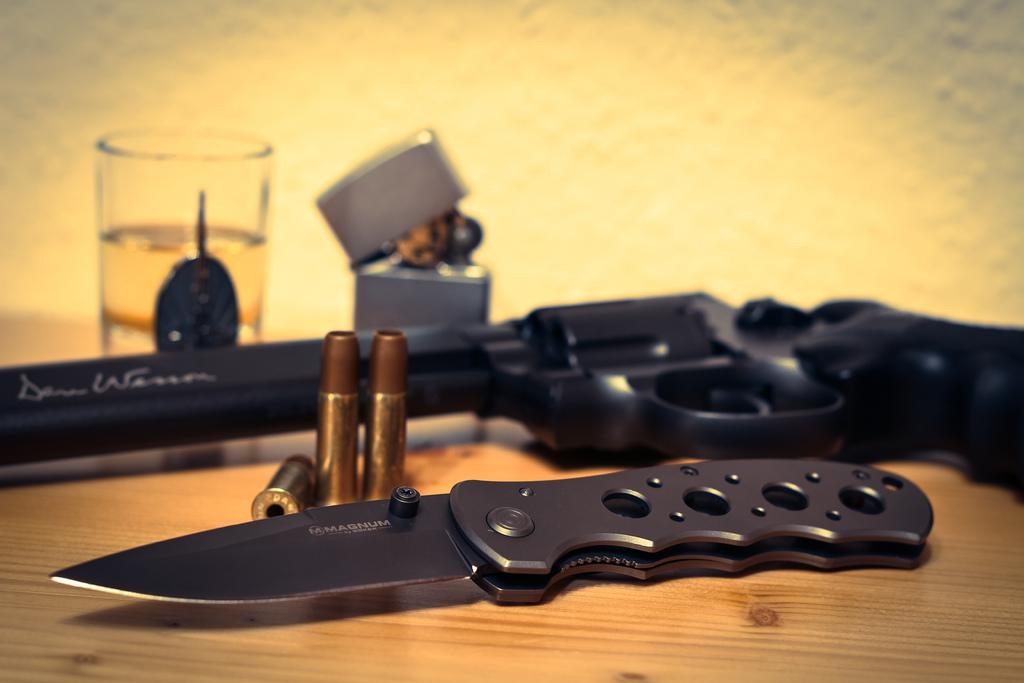Knife: (44, 455, 934, 605)
